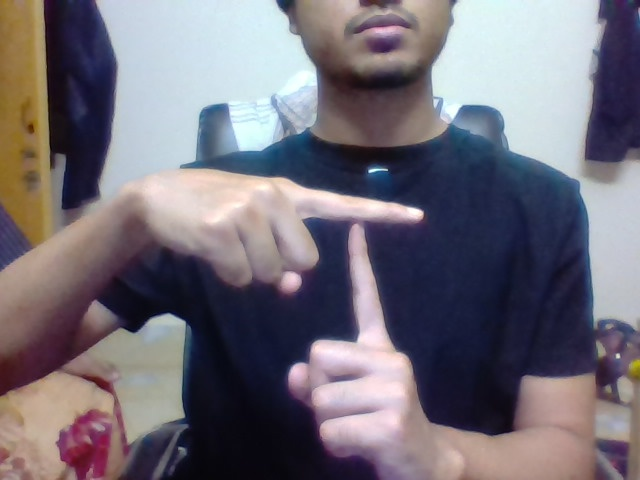T: (329, 181, 428, 327)
